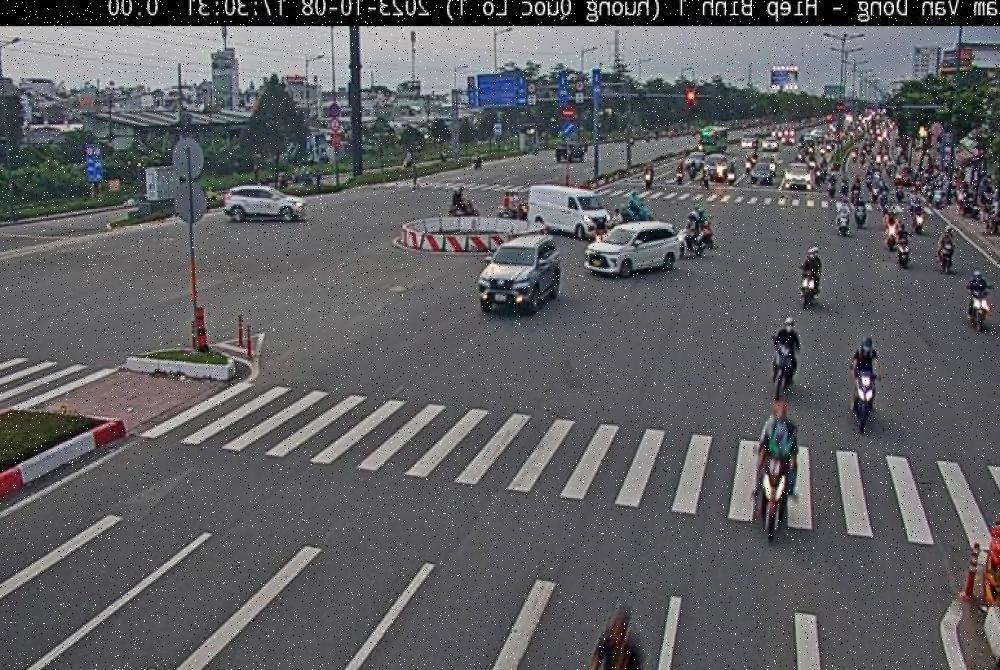car: (478, 235, 564, 317), (581, 220, 681, 279), (528, 184, 609, 241), (224, 183, 306, 226), (789, 160, 814, 192)
